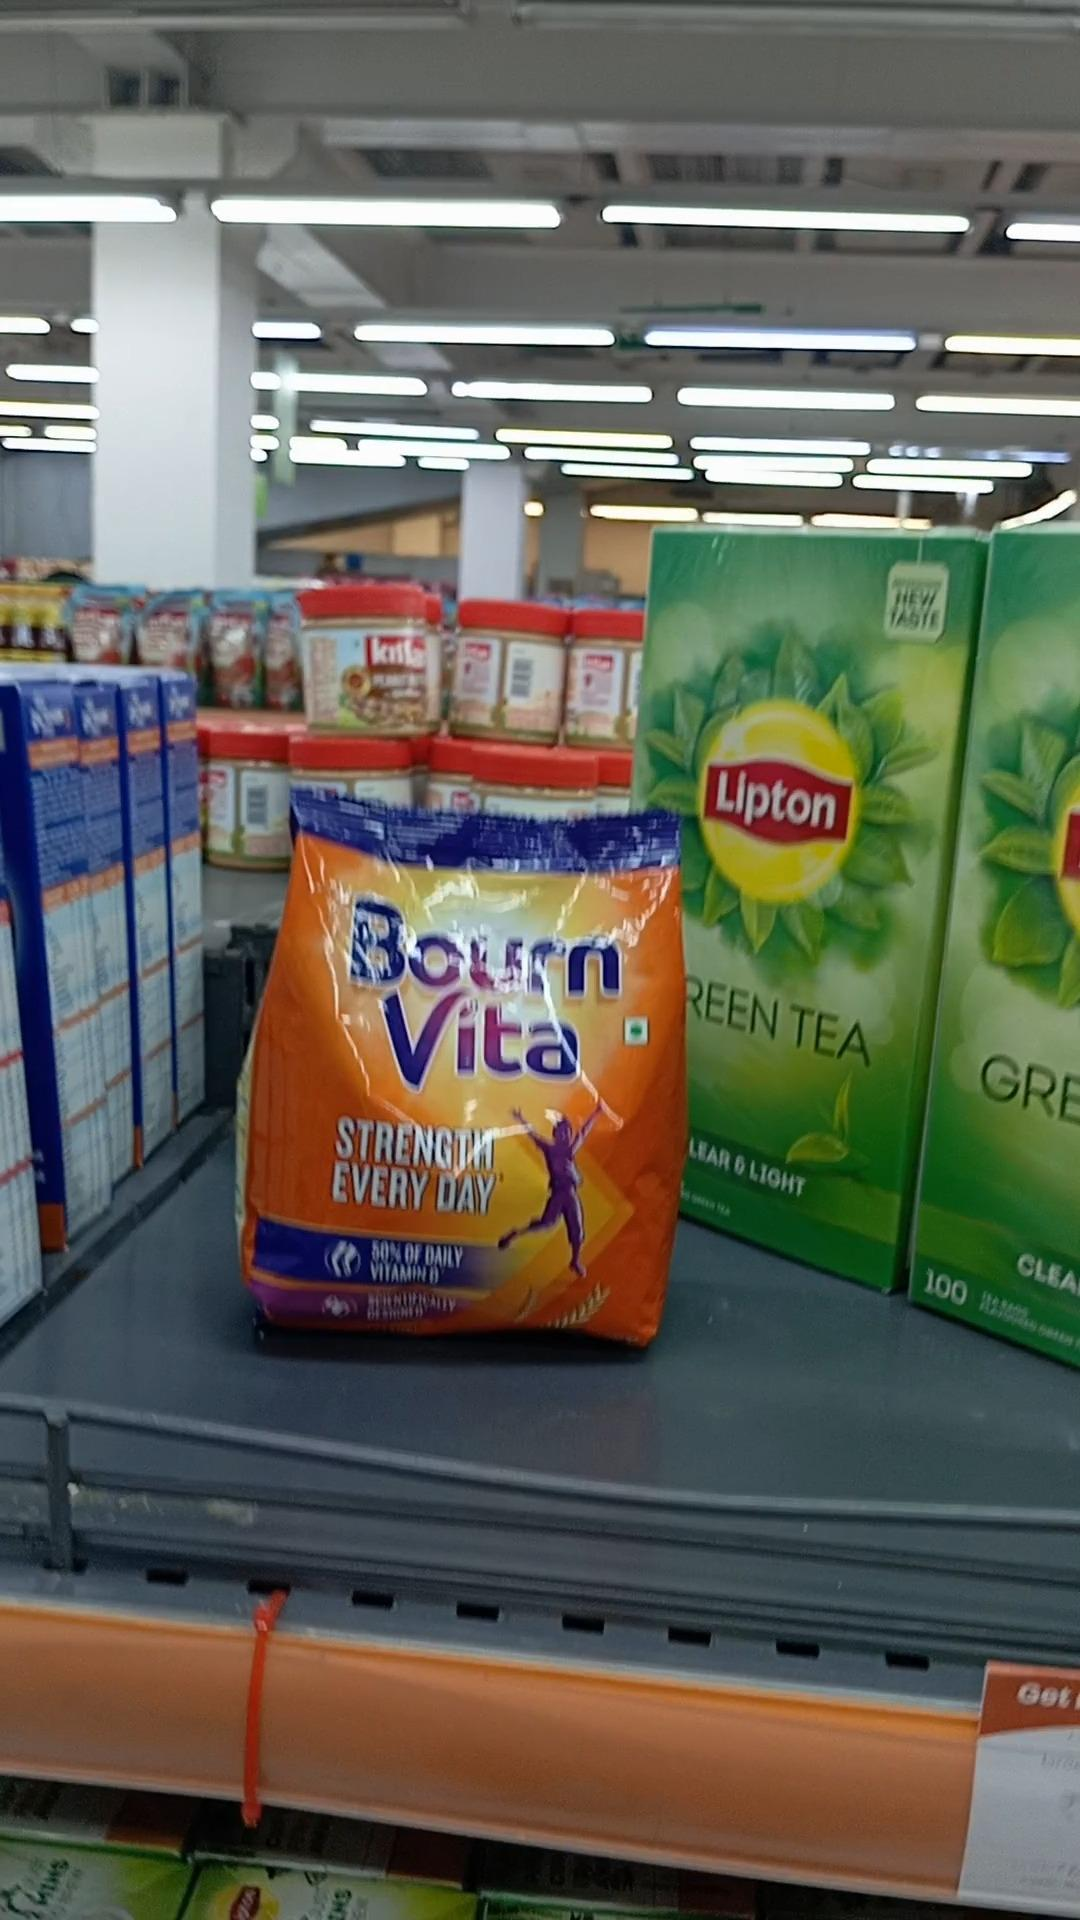BOURN_VITA_500_G_POUCH: (251, 770, 678, 1354)
